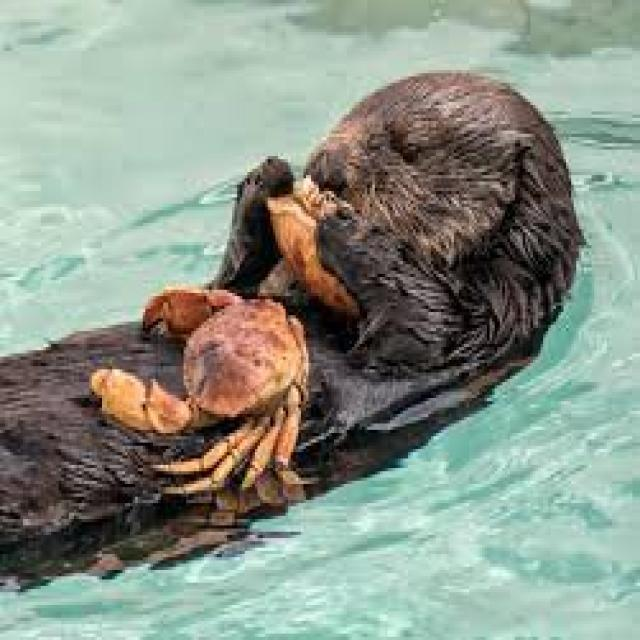Otter: (281, 78, 589, 372)
